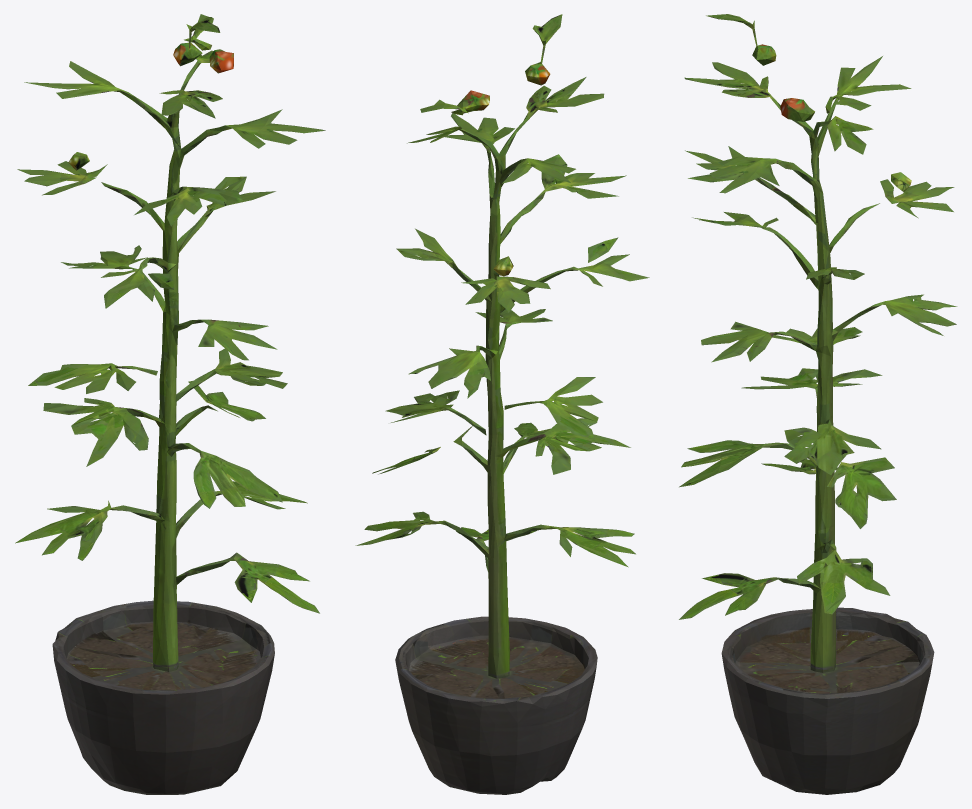
Rendered from young_tomato_plant_1s_0403212033_texture.fbx.
3 views of the same model, side by side, from view 1: azimuth 30°, elevation 25°; view 2: azimuth 150°, elevation 25°; view 3: azimuth 270°, elevation 25° (orthographic). The views are drawn at different scales.
Visible parts, largest first — view 1: temp; view 2: temp; view 3: temp.
Part boxes in pixels (<box>): temp: <box>15,14,325,794</box>; temp: <box>355,14,649,794</box>; temp: <box>679,14,957,794</box>.
Size of the model in its own units: 76.28 by 196 by 66.66.
1 material, 1 textured.
